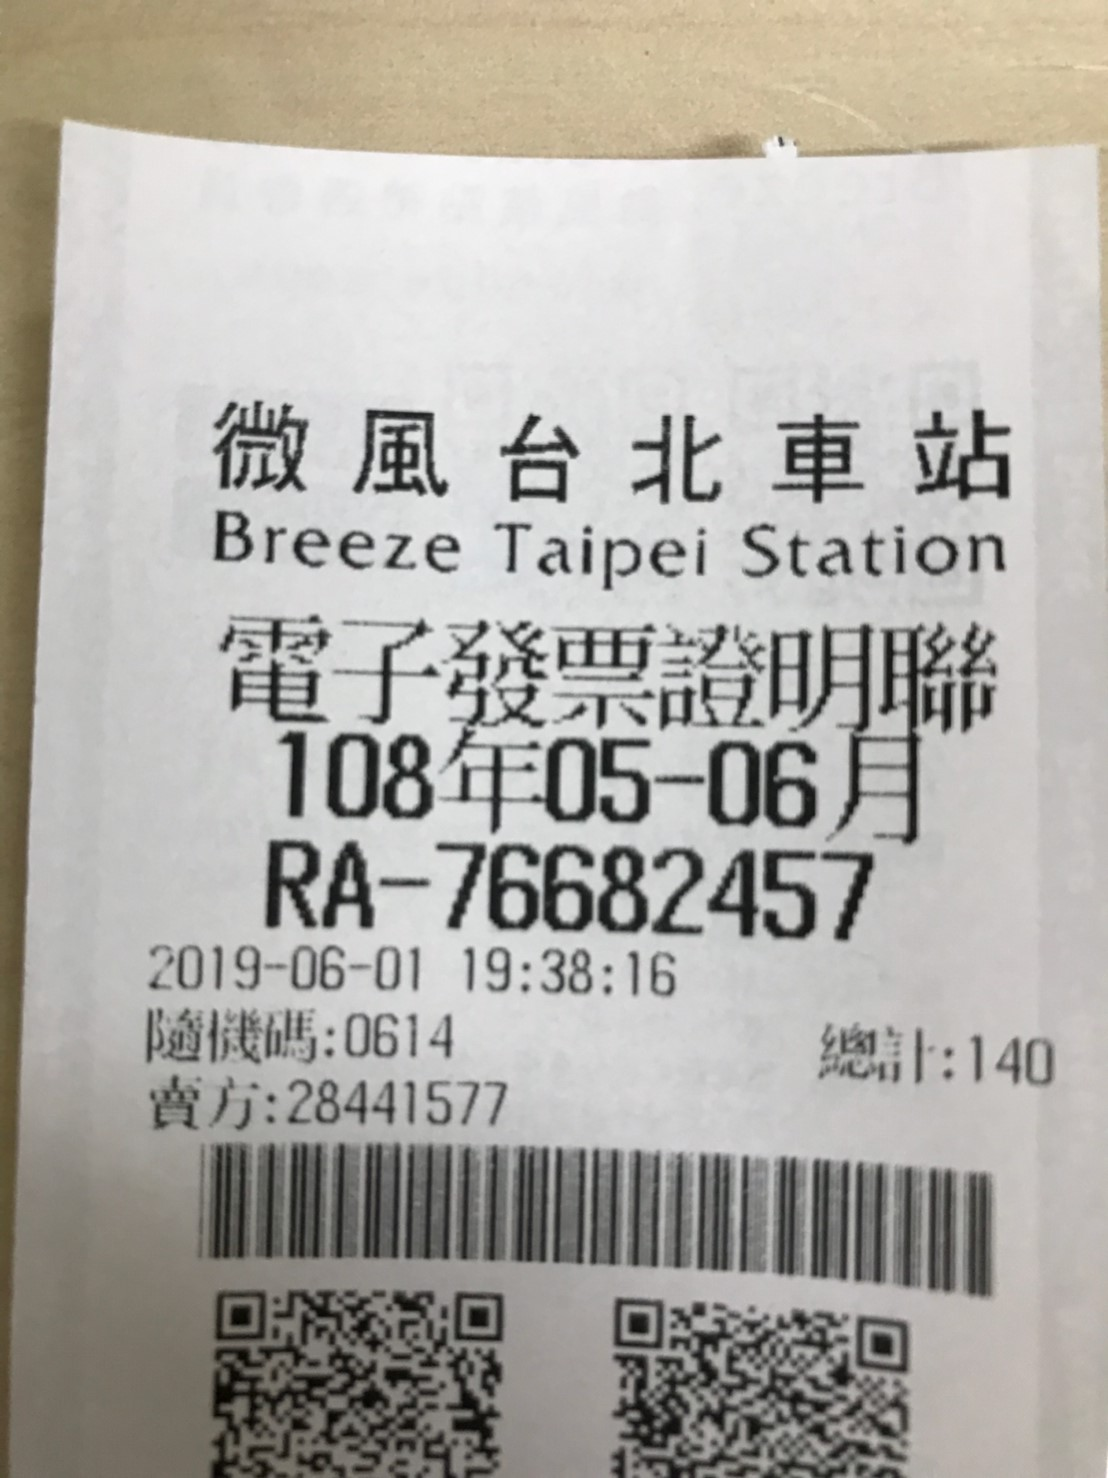Date_New: (272, 730, 928, 841)
Number_New: (435, 834, 882, 946)
